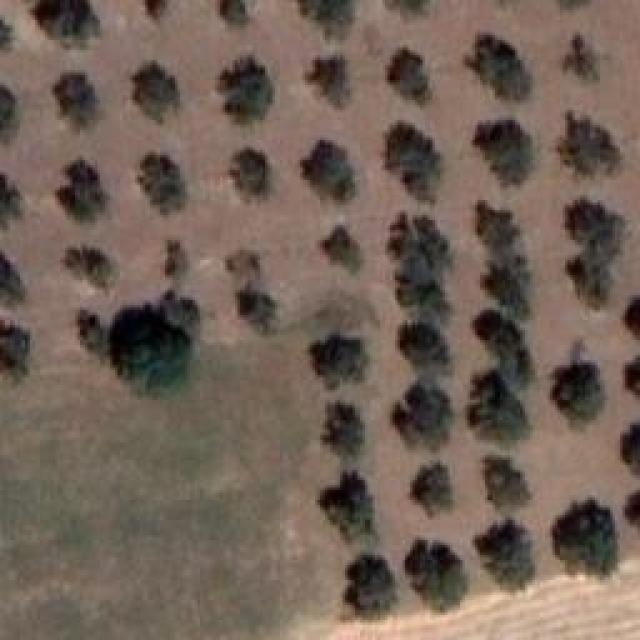Tree: (565, 198, 625, 309), (388, 215, 449, 318), (110, 313, 188, 392), (553, 500, 618, 577), (475, 310, 534, 388), (468, 370, 531, 443), (475, 518, 536, 591), (385, 122, 440, 202), (405, 540, 466, 612), (468, 35, 533, 101), (393, 383, 452, 451), (473, 120, 533, 186), (563, 113, 622, 176), (318, 473, 373, 540), (220, 58, 274, 125), (300, 140, 355, 202), (343, 555, 396, 618), (33, 0, 102, 47), (58, 160, 108, 222), (480, 255, 530, 317), (137, 153, 185, 215), (313, 335, 366, 391), (553, 368, 606, 424), (133, 63, 179, 125), (53, 73, 98, 131), (388, 50, 431, 106), (323, 402, 366, 457), (475, 203, 520, 255), (488, 458, 532, 511), (410, 463, 453, 516), (398, 324, 449, 368), (230, 148, 271, 201), (298, 0, 354, 38), (305, 58, 345, 107), (320, 225, 359, 272), (65, 248, 109, 289), (0, 320, 30, 380), (563, 33, 599, 81), (240, 290, 278, 333), (80, 310, 108, 358), (0, 252, 24, 307), (0, 175, 21, 230), (0, 85, 19, 143), (620, 423, 640, 475), (165, 240, 190, 280), (625, 295, 640, 338), (625, 355, 640, 398), (219, 0, 244, 24), (625, 490, 640, 528), (0, 18, 12, 50)
